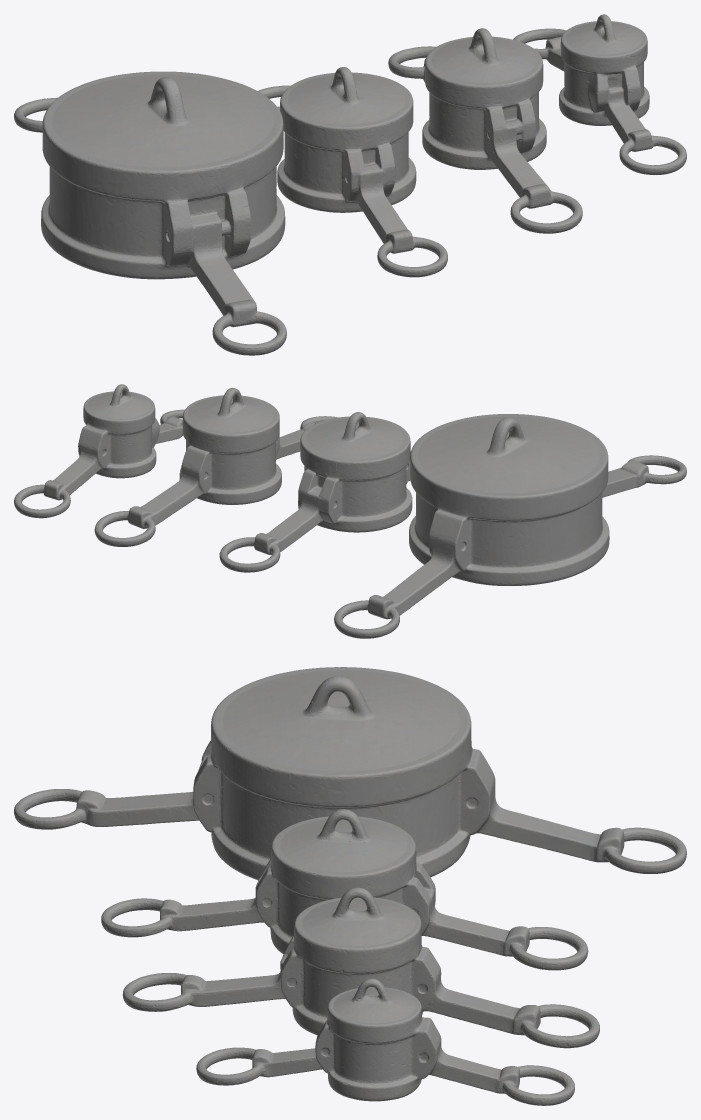
File: metal-pot-set-3d-model.glb
3 renders of one model, top to bottom at view 1: azimuth 30°, elevation 25°; view 2: azimuth 150°, elevation 25°; view 3: azimuth 270°, elevation 25°, orthographic. The views are drawn at different scales.
Visible parts, largest first — view 1: tripo_node_caee3b9d-9607-44dd-b547-503f91b04d73; view 2: tripo_node_caee3b9d-9607-44dd-b547-503f91b04d73; view 3: tripo_node_caee3b9d-9607-44dd-b547-503f91b04d73.
Part boxes in pixels (x1,y1,x2,y2): tripo_node_caee3b9d-9607-44dd-b547-503f91b04d73: (14,14,686,355); tripo_node_caee3b9d-9607-44dd-b547-503f91b04d73: (14,384,686,638); tripo_node_caee3b9d-9607-44dd-b547-503f91b04d73: (14,667,686,1105).
Bounding box in the file's own units: 0.996 × 0.242 × 0.8796.
1 material, 1 textured.
